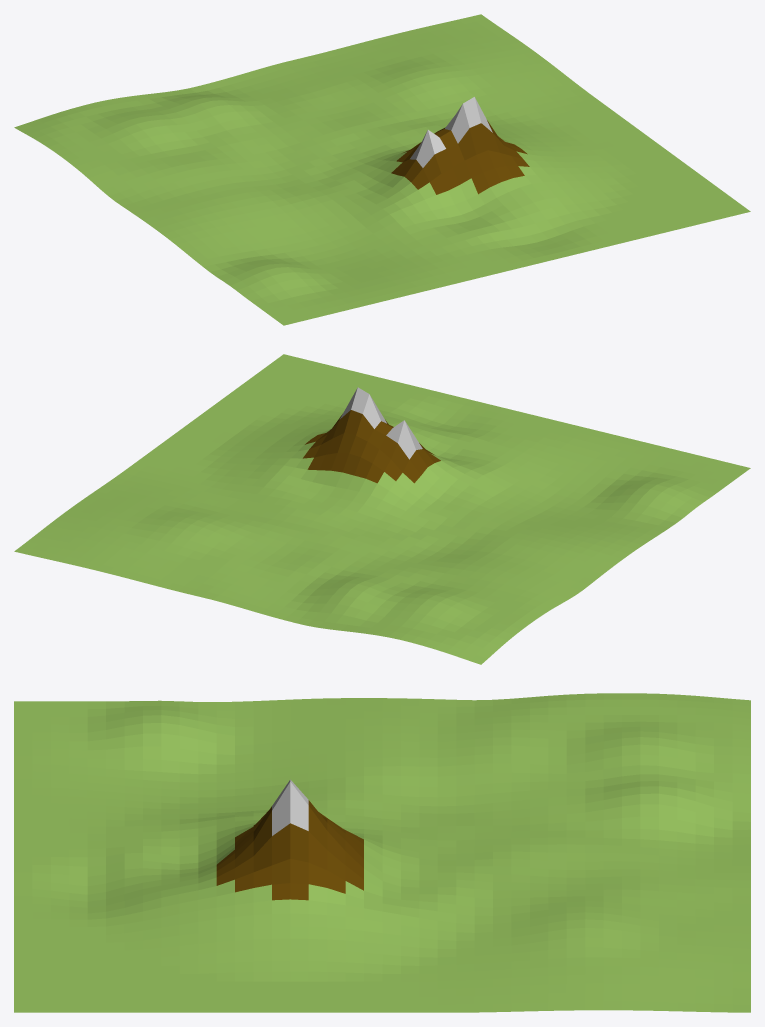
The model's file is land.fbx.
3 views of the same model, one above another, from view 1: azimuth 30°, elevation 25°; view 2: azimuth 150°, elevation 25°; view 3: azimuth 270°, elevation 25° (orthographic). The views are drawn at different scales.
Visible parts, largest first — view 1: land; view 2: land; view 3: land.
Boxes of the visible parts, box(x1,y1,x2,y2) form: land: box(14, 14, 750, 325); land: box(14, 354, 750, 664); land: box(14, 693, 750, 1012).
Size of the model in its own units: 14.9 by 2.8 by 14.9.
